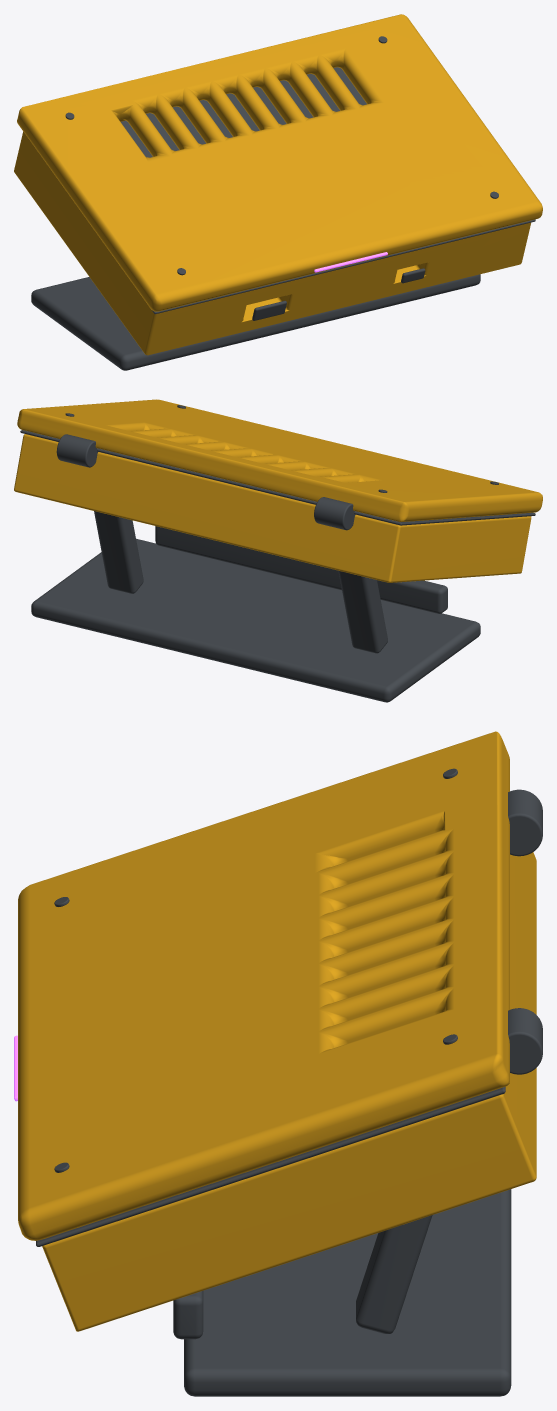
File: a3-modushell.glb
3 views of the same model, one above another, from view 1: azimuth 30°, elevation 25°; view 2: azimuth 150°, elevation 25°; view 3: azimuth 270°, elevation 25° (orthographic). The views are drawn at different scales.
Parts seen in each view (by area): view 1: Removable amber lid | vented, Enclosure body | open shell, Tilt stand | wide foot, Dark lid gasket | separate, Circular port | dark recess; view 2: Tilt stand | wide foot, Enclosure body | open shell, Removable amber lid | vented, Tilt stand | front retaining lip, Tilt stand | support 2, Tilt stand | support 1, Dark lid gasket | separate, Hinge barrel 1 | dark metal, Hinge barrel 2 | dark metal; view 3: Removable amber lid | vented, Enclosure body | open shell, Tilt stand | wide foot, Tilt stand | support 2, Dark lid gasket | separate, Hinge barrel 1 | dark metal, Hinge barrel 2 | dark metal, Tilt stand | front retaining lip.
Part boxes in pixels (<box>): Removable amber lid | vented: <box>17,14,542,311</box>; Enclosure body | open shell: <box>14,131,530,355</box>; Tilt stand | wide foot: <box>31,274,480,370</box>; Dark lid gasket | separate: <box>121,67,535,314</box>; Circular port | dark recess: <box>252,300,286,320</box>; Tilt stand | wide foot: <box>31,538,480,702</box>; Enclosure body | open shell: <box>14,434,531,582</box>; Removable amber lid | vented: <box>17,399,542,521</box>; Tilt stand | front retaining lip: <box>155,526,447,613</box>; Tilt stand | support 2: <box>94,511,143,593</box>; Tilt stand | support 1: <box>338,570,387,653</box>; Dark lid gasket | separate: <box>20,430,535,525</box>; Hinge barrel 1 | dark metal: <box>314,497,355,530</box>; Hinge barrel 2 | dark metal: <box>56,434,98,467</box>; Removable amber lid | vented: <box>18,731,509,1240</box>; Enclosure body | open shell: <box>42,852,536,1331</box>; Tilt stand | wide foot: <box>184,1189,511,1396</box>; Tilt stand | support 2: <box>356,1215,432,1333</box>; Dark lid gasket | separate: <box>36,1086,505,1246</box>; Hinge barrel 1 | dark metal: <box>508,789,542,856</box>; Hinge barrel 2 | dark metal: <box>508,1008,542,1074</box>; Tilt stand | front retaining lip: <box>173,1291,203,1339</box>.
Size of the model in its own units: 1.82 by 0.9064 by 1.23.
